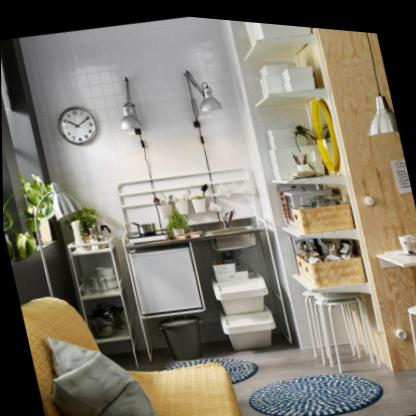Sofa: (17, 255, 248, 416)
